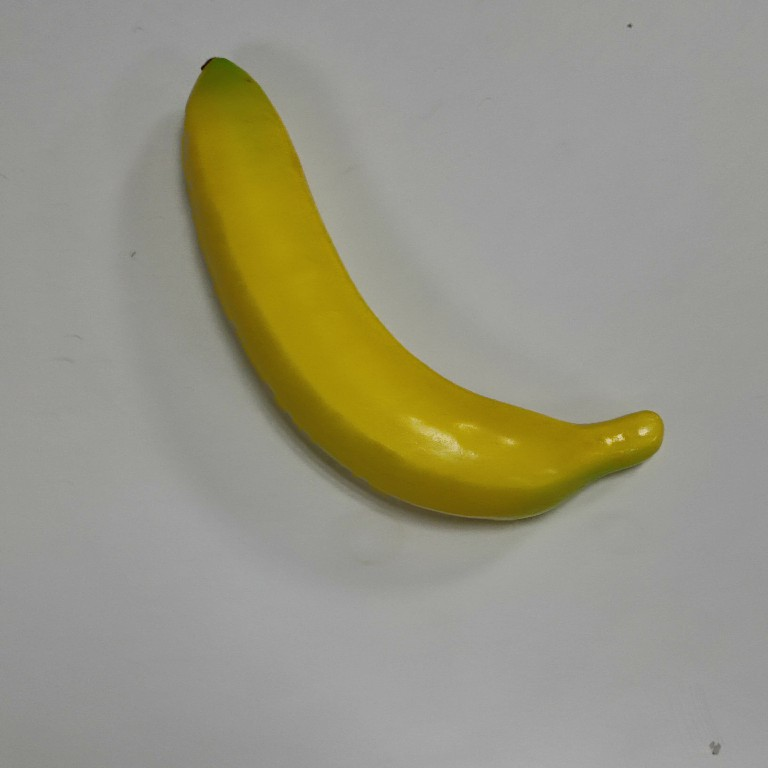fruit_banana: (174, 52, 667, 526)
